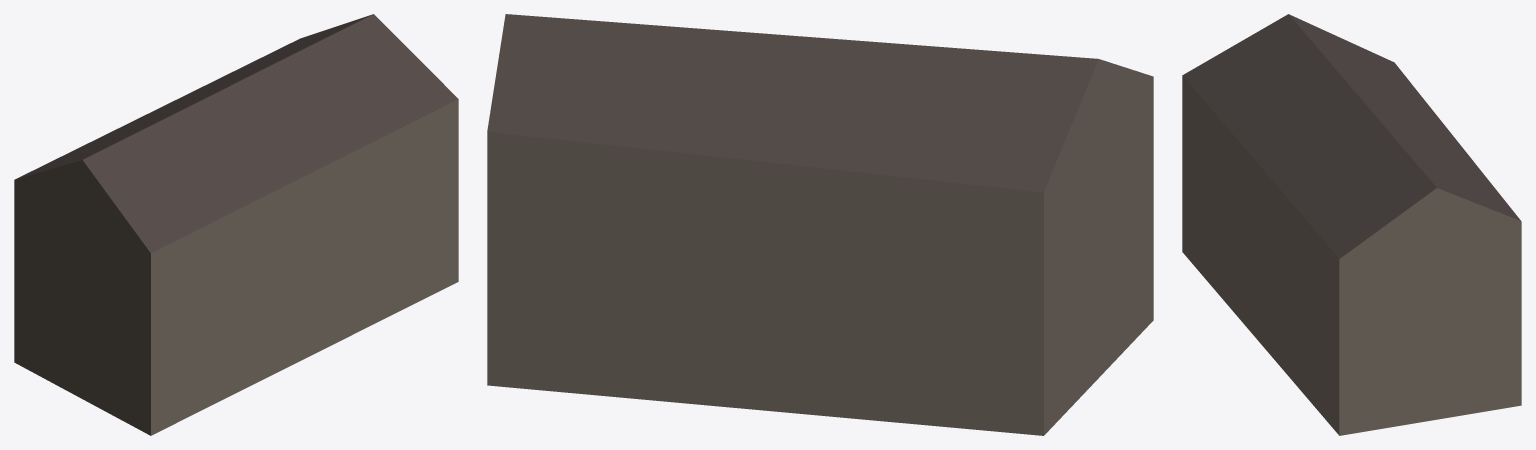
3 renders of one model, left to right at view 1: azimuth 30°, elevation 25°; view 2: azimuth 150°, elevation 25°; view 3: azimuth 270°, elevation 25°, orthographic. The views are drawn at different scales.
Visible parts, largest first — view 1: HP-w505661364; view 2: HP-w505661364; view 3: HP-w505661364.
Part boxes in pixels (x1,y1,x2,y2): HP-w505661364: (14, 14, 458, 435); HP-w505661364: (487, 14, 1153, 435); HP-w505661364: (1182, 14, 1521, 435).
Bounding box in the file's own units: 21.46 × 11.79 × 15.63.
